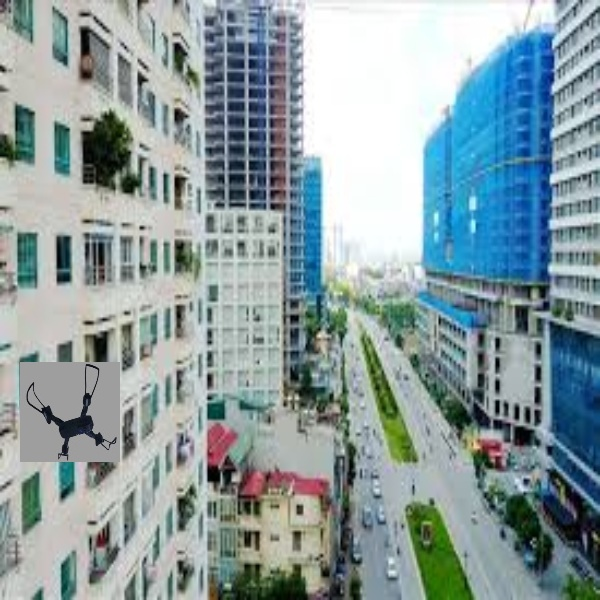drone: (21, 365, 122, 460)
